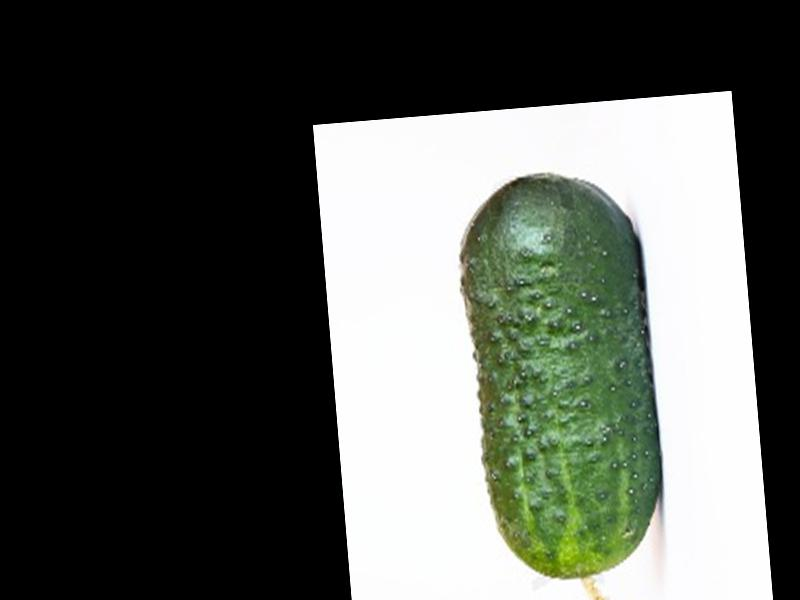Cucumber: (449, 168, 674, 600)
